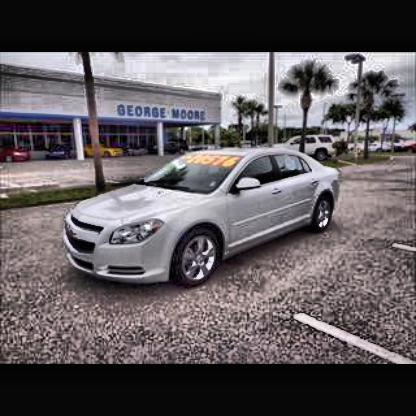Chevrolet Malibu Hybrid Sedan 2010: (67, 149, 343, 293)
